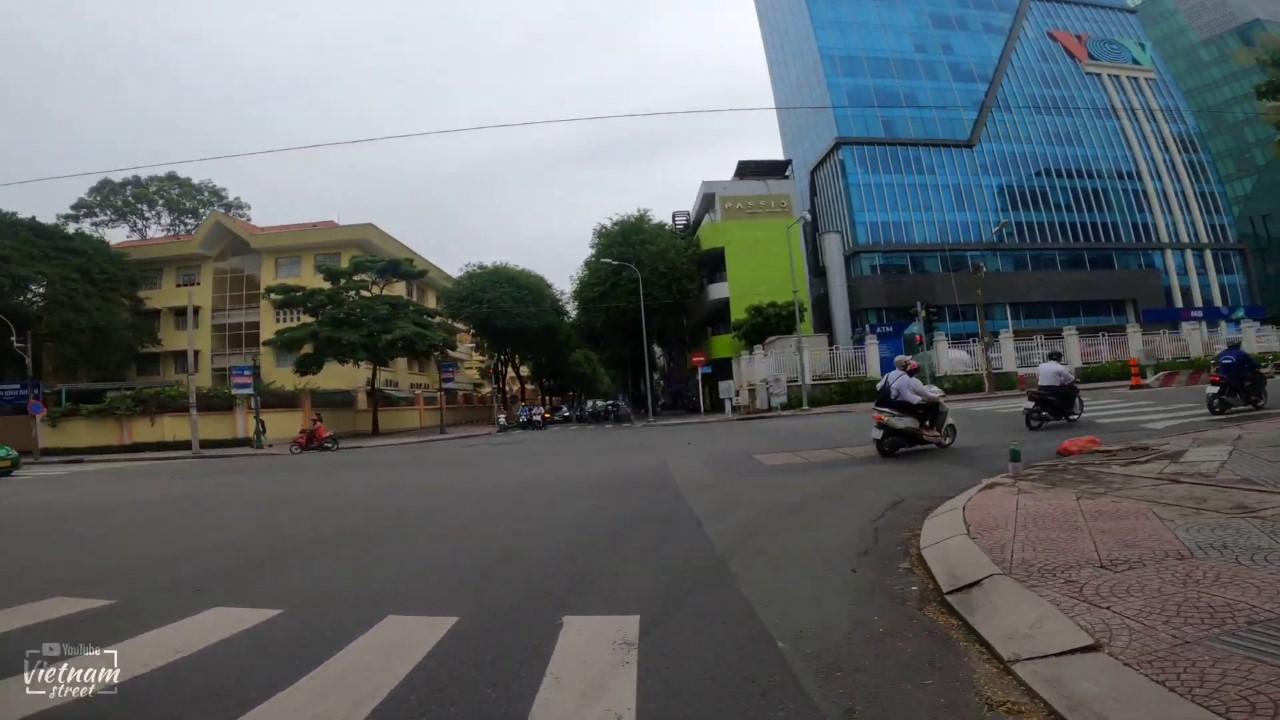cam_nguoc_chieu: (689, 350, 706, 367)
